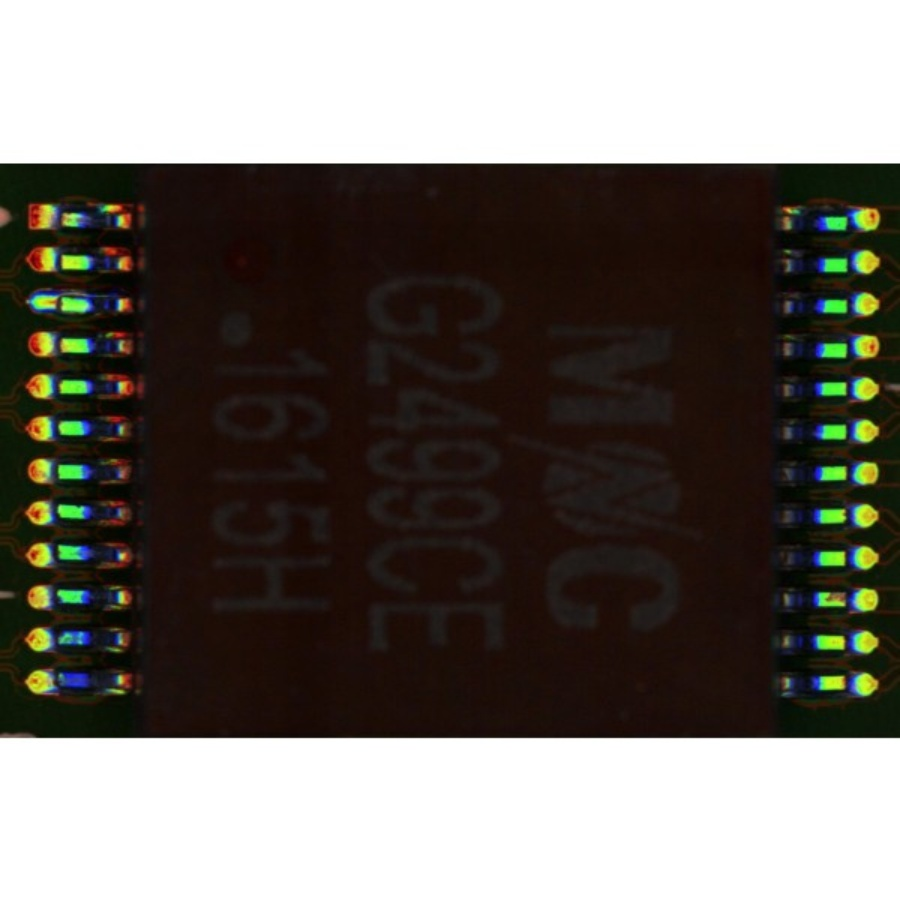Bad_podu: (41, 297, 72, 308)
